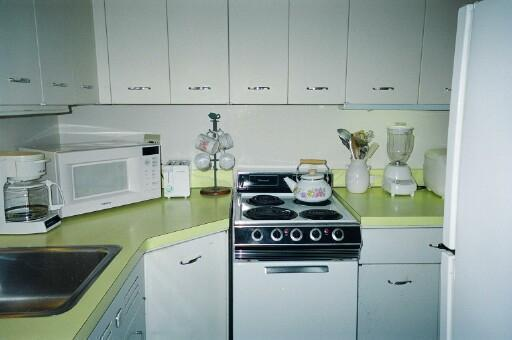Armario: (360, 218, 438, 336)
Electrodomestico: (449, 8, 510, 339), (236, 182, 356, 338)
Lavaplatos: (3, 245, 107, 314)
